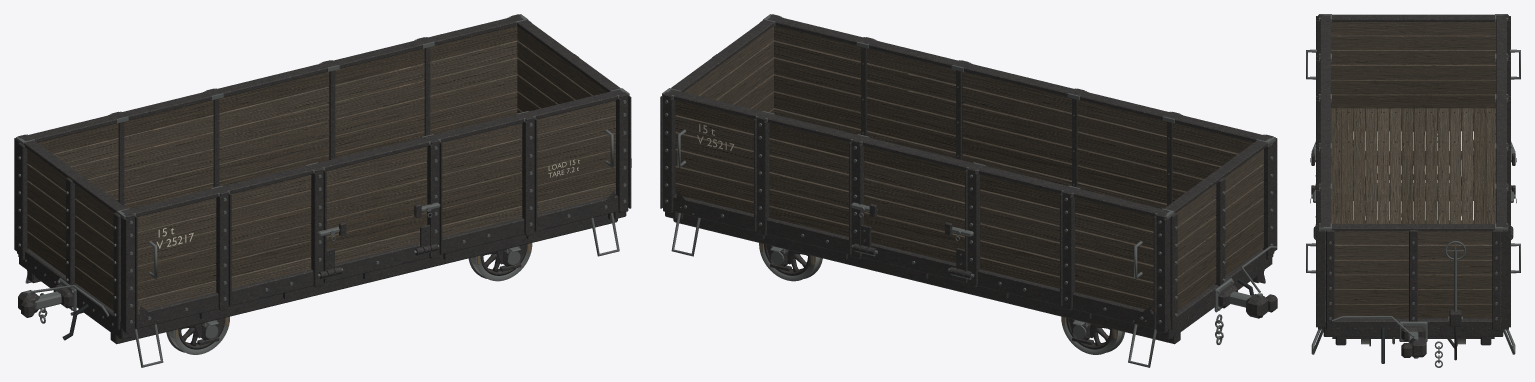
File: Model_GondolaRig.glb
The picture shows the model from 3 angles, left to right: view 1: azimuth 30°, elevation 25°; view 2: azimuth 150°, elevation 25°; view 3: azimuth 270°, elevation 25°; orthographic projection. The views are drawn at different scales.
Visible parts, largest first — view 1: Model_GondolaRoot_AgedIron, Model_GondolaRoot_WeatheredPlank3, Model_GondolaRoot_WeatheredPlank4, Model_GondolaRoot_WeatheredPlank2, Model_GondolaRoot_WeatheredPlank0, Model_GondolaRoot_WeatheredPlank5, Model_GondolaRoot_WeatheredPlank1, Model_GondolaRoot_WornSteel, Model_GondolaWheel1Right_WornSteel, Model_GondolaWheel2Right_WornSteel; view 2: Model_GondolaRoot_AgedIron, Model_GondolaRoot_WeatheredPlank3, Model_GondolaRoot_WeatheredPlank4, Model_GondolaRoot_WeatheredPlank2, Model_GondolaRoot_WeatheredPlank0, Model_GondolaRoot_WeatheredPlank1, Model_GondolaRoot_WeatheredPlank5, Model_GondolaRoot_WornSteel, Model_GondolaWheel1Left_WornSteel, Model_GondolaWheel2Left_WornSteel; view 3: Model_GondolaRoot_AgedIron, Model_GondolaRoot_WeatheredPlank1, Model_GondolaRoot_WeatheredPlank0, Model_GondolaRoot_WeatheredPlank2, Model_GondolaRoot_WeatheredPlank3, Model_GondolaRoot_WeatheredPlank4, Model_GondolaRoot_WeatheredPlank5, Model_GondolaRoot_WornSteel.
Boxes of the visible parts, x1,y1,x2,y2 form: Model_GondolaRoot_AgedIron: (14, 14, 631, 345); Model_GondolaRoot_WeatheredPlank3: (27, 57, 615, 278); Model_GondolaRoot_WeatheredPlank4: (27, 41, 615, 273); Model_GondolaRoot_WeatheredPlank2: (27, 74, 615, 300); Model_GondolaRoot_WeatheredPlank0: (27, 26, 615, 310); Model_GondolaRoot_WeatheredPlank5: (27, 26, 615, 311); Model_GondolaRoot_WeatheredPlank1: (27, 91, 615, 305); Model_GondolaRoot_WornSteel: (16, 14, 629, 367); Model_GondolaWheel1Right_WornSteel: (166, 316, 229, 354); Model_GondolaWheel2Right_WornSteel: (468, 243, 532, 281); Model_GondolaRoot_AgedIron: (660, 14, 1277, 345); Model_GondolaRoot_WeatheredPlank3: (675, 40, 1263, 282); Model_GondolaRoot_WeatheredPlank4: (675, 25, 1263, 276); Model_GondolaRoot_WeatheredPlank2: (675, 57, 1263, 299); Model_GondolaRoot_WeatheredPlank0: (675, 91, 1263, 310); Model_GondolaRoot_WeatheredPlank1: (675, 74, 1263, 311); Model_GondolaRoot_WeatheredPlank5: (675, 26, 1263, 285); Model_GondolaRoot_WornSteel: (662, 14, 1277, 367); Model_GondolaWheel1Left_WornSteel: (1061, 316, 1124, 354); Model_GondolaWheel2Left_WornSteel: (759, 243, 822, 281); Model_GondolaRoot_AgedIron: (1311, 14, 1515, 360); Model_GondolaRoot_WeatheredPlank1: (1325, 79, 1501, 316); Model_GondolaRoot_WeatheredPlank0: (1325, 94, 1501, 318); Model_GondolaRoot_WeatheredPlank2: (1325, 64, 1501, 301); Model_GondolaRoot_WeatheredPlank3: (1325, 50, 1501, 286); Model_GondolaRoot_WeatheredPlank4: (1325, 35, 1501, 272); Model_GondolaRoot_WeatheredPlank5: (1325, 22, 1501, 316); Model_GondolaRoot_WornSteel: (1306, 14, 1520, 367).
Bounding box in the file's own units: 9.85 × 2.82 × 3.47.
12 materials, 7 textured.
